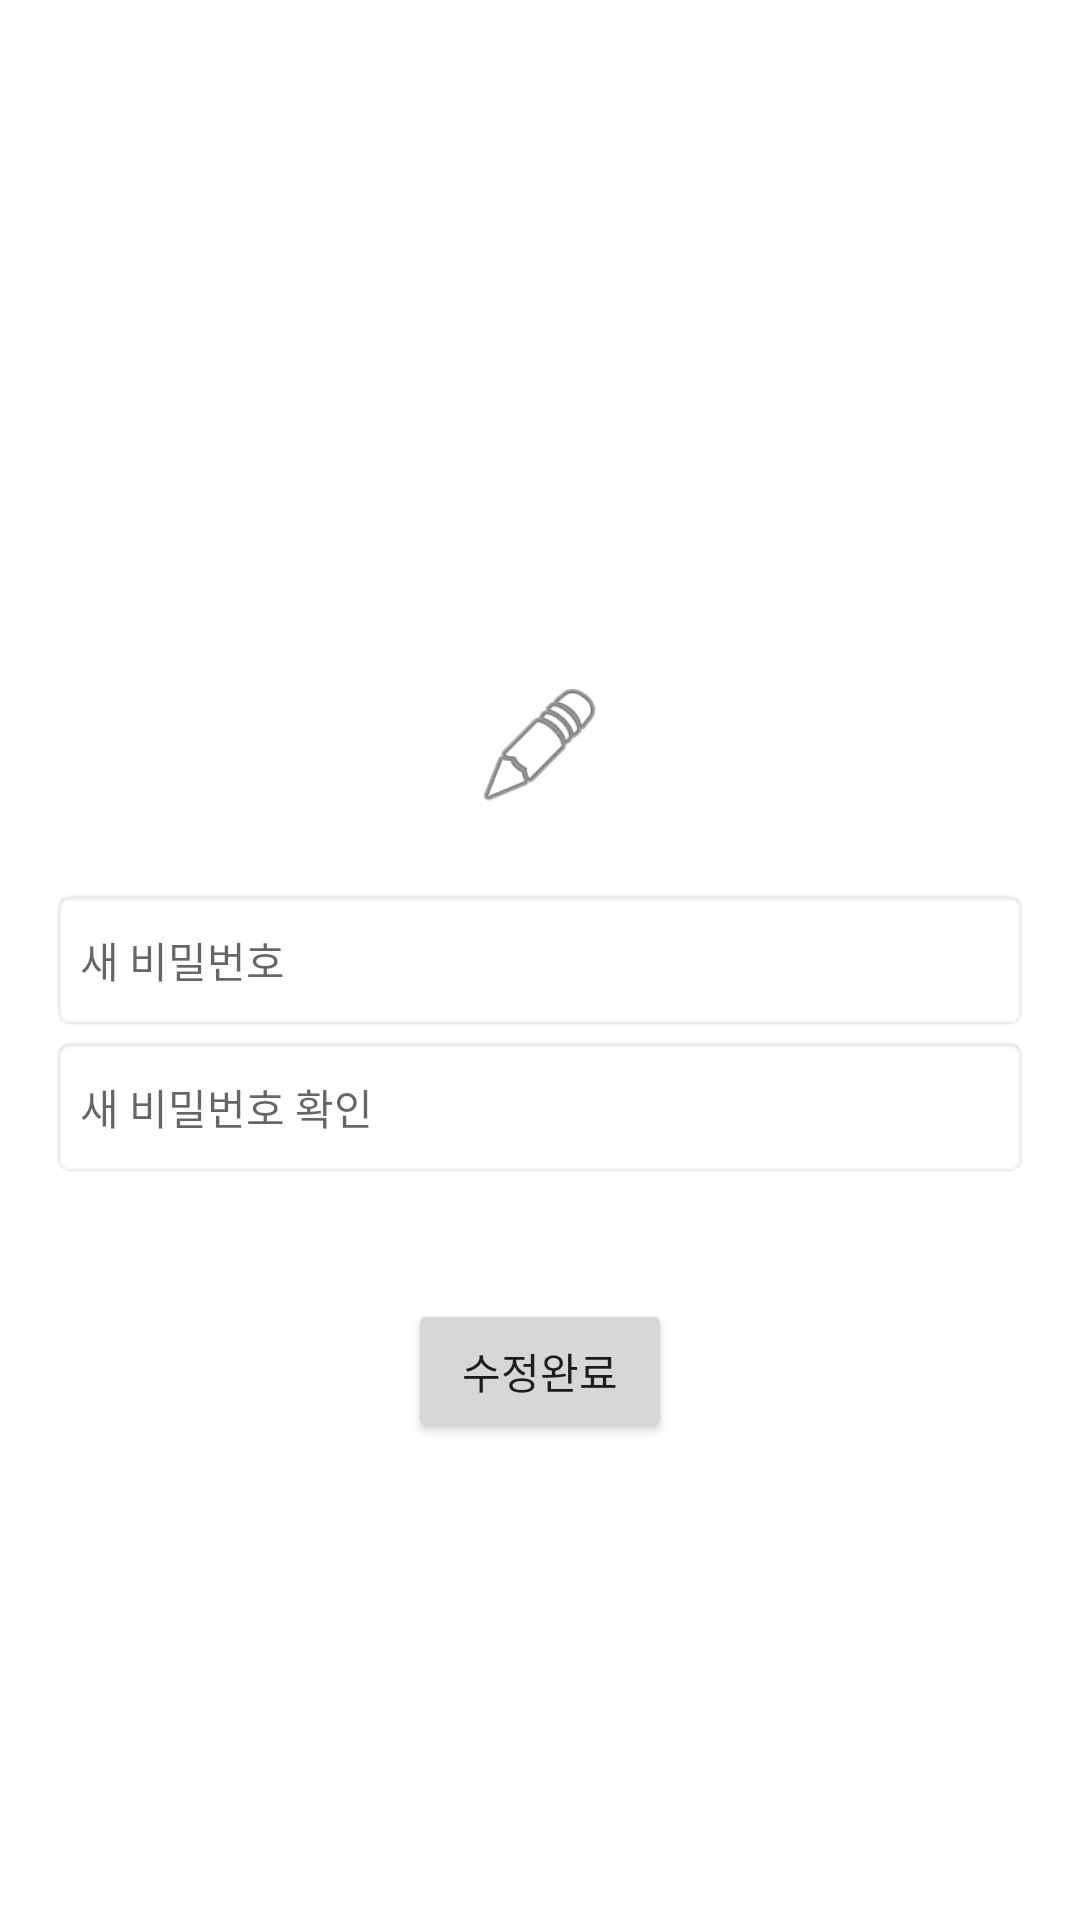

Icon bounding boxes for this 1080×1920 phone screenshot, format (x1, y1, x2, y2):
edit: (483, 689, 595, 801)
